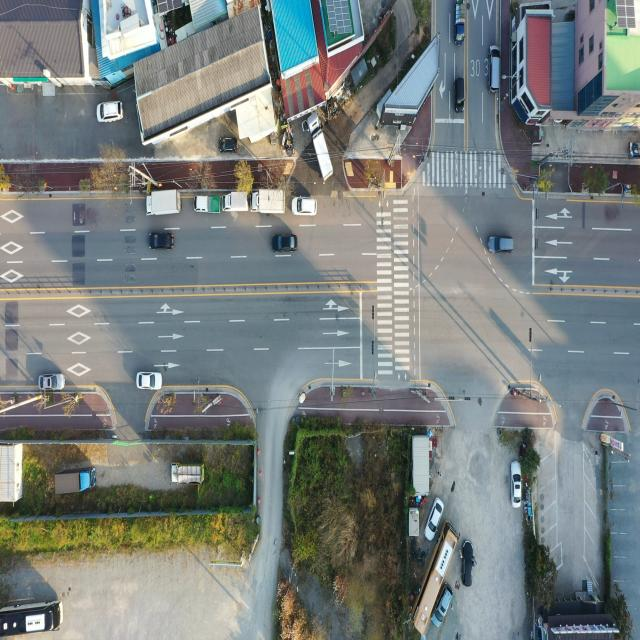car: (433, 580, 455, 626), (460, 537, 474, 588), (426, 501, 443, 542), (488, 42, 501, 95), (96, 99, 124, 123), (293, 197, 318, 217), (488, 236, 513, 255), (272, 234, 296, 253), (39, 374, 64, 392), (136, 373, 161, 391), (150, 233, 173, 252), (513, 465, 523, 508), (217, 134, 238, 153), (454, 76, 464, 110)
large_bus: (412, 521, 458, 636), (0, 595, 64, 636)
medium_truck: (304, 114, 336, 180), (52, 463, 98, 497), (148, 189, 184, 218), (250, 186, 287, 214)
small_truck: (172, 462, 204, 486), (221, 191, 250, 214), (192, 196, 222, 216), (453, 0, 465, 46)
